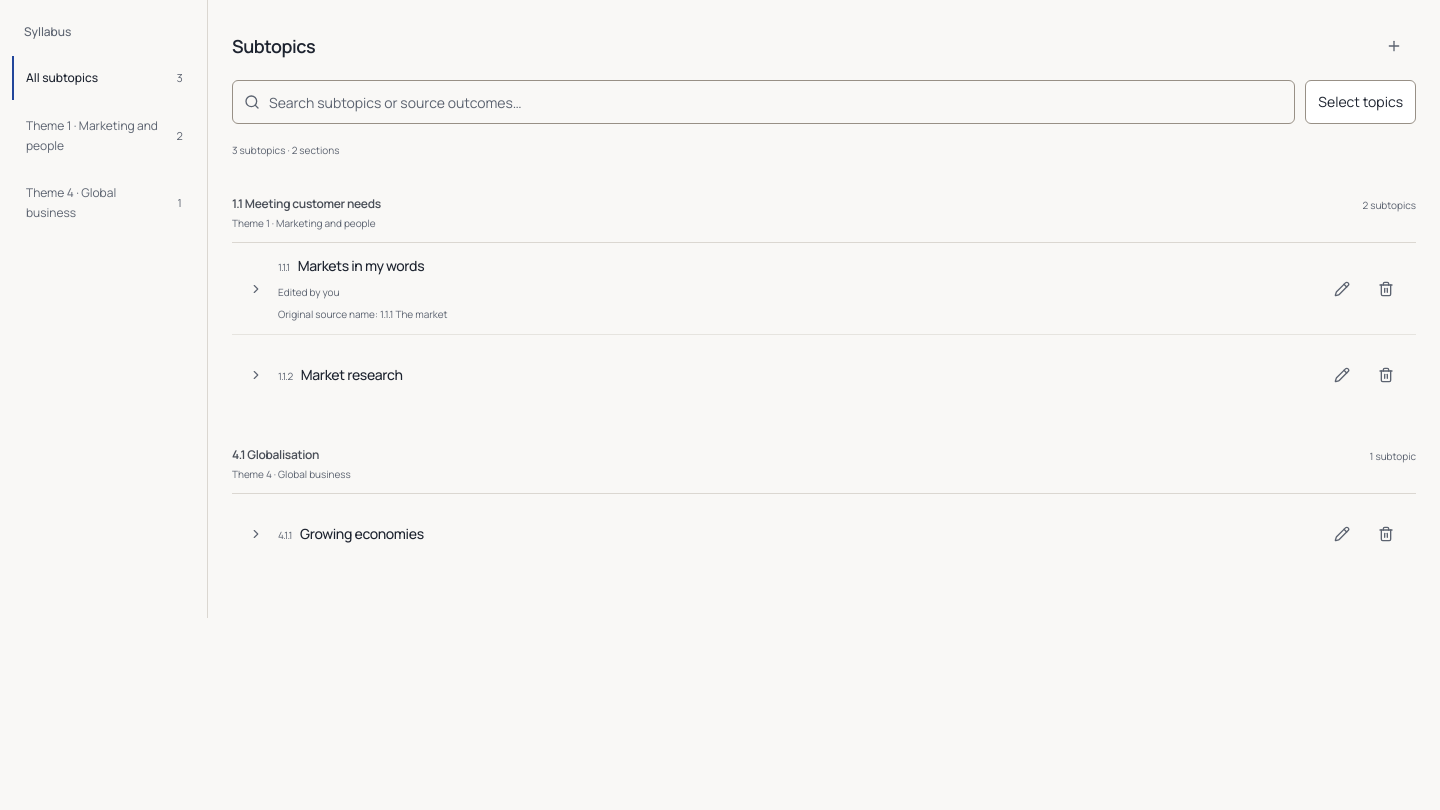
ProfileSubtopicEditor › searches revise on Tuesday across aliases, codes, original names, full outcomes, notes and paths without mutations
The width and height of the screenshot is (1440, 810).
Type "revise on Tuesday" into the search field.
click(764, 102); type("revise on Tuesday")  # box left=232, top=80, right=1295, bottom=124
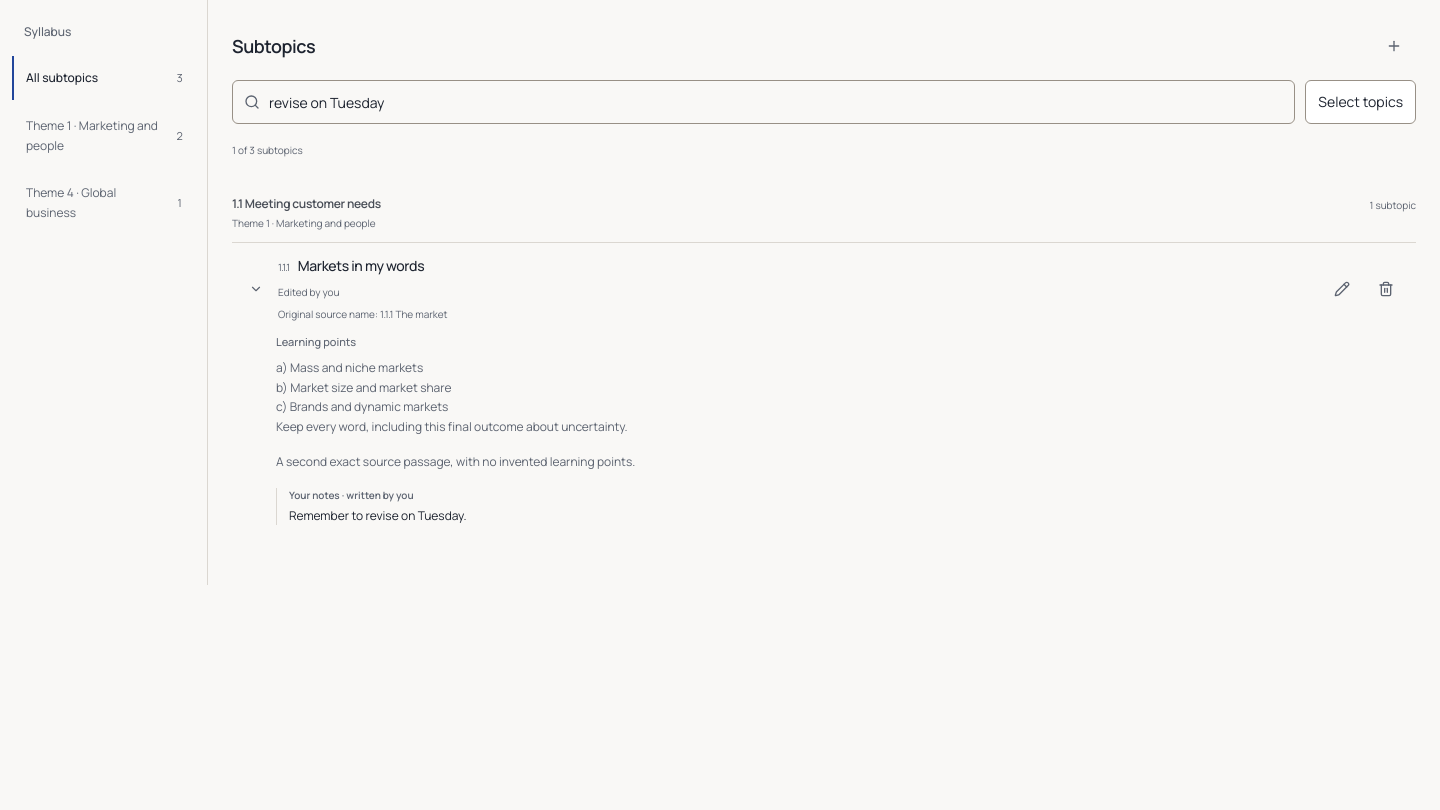
Check: the message reads "1 of 3 subtopics", box left=232, top=143, right=303, bottom=157
Check: the text "Your notes · written by you" is shown, box left=289, top=488, right=414, bottom=502
Check: the text "Remember to revise on Tuesday." is shown, box left=289, top=506, right=466, bottom=524
